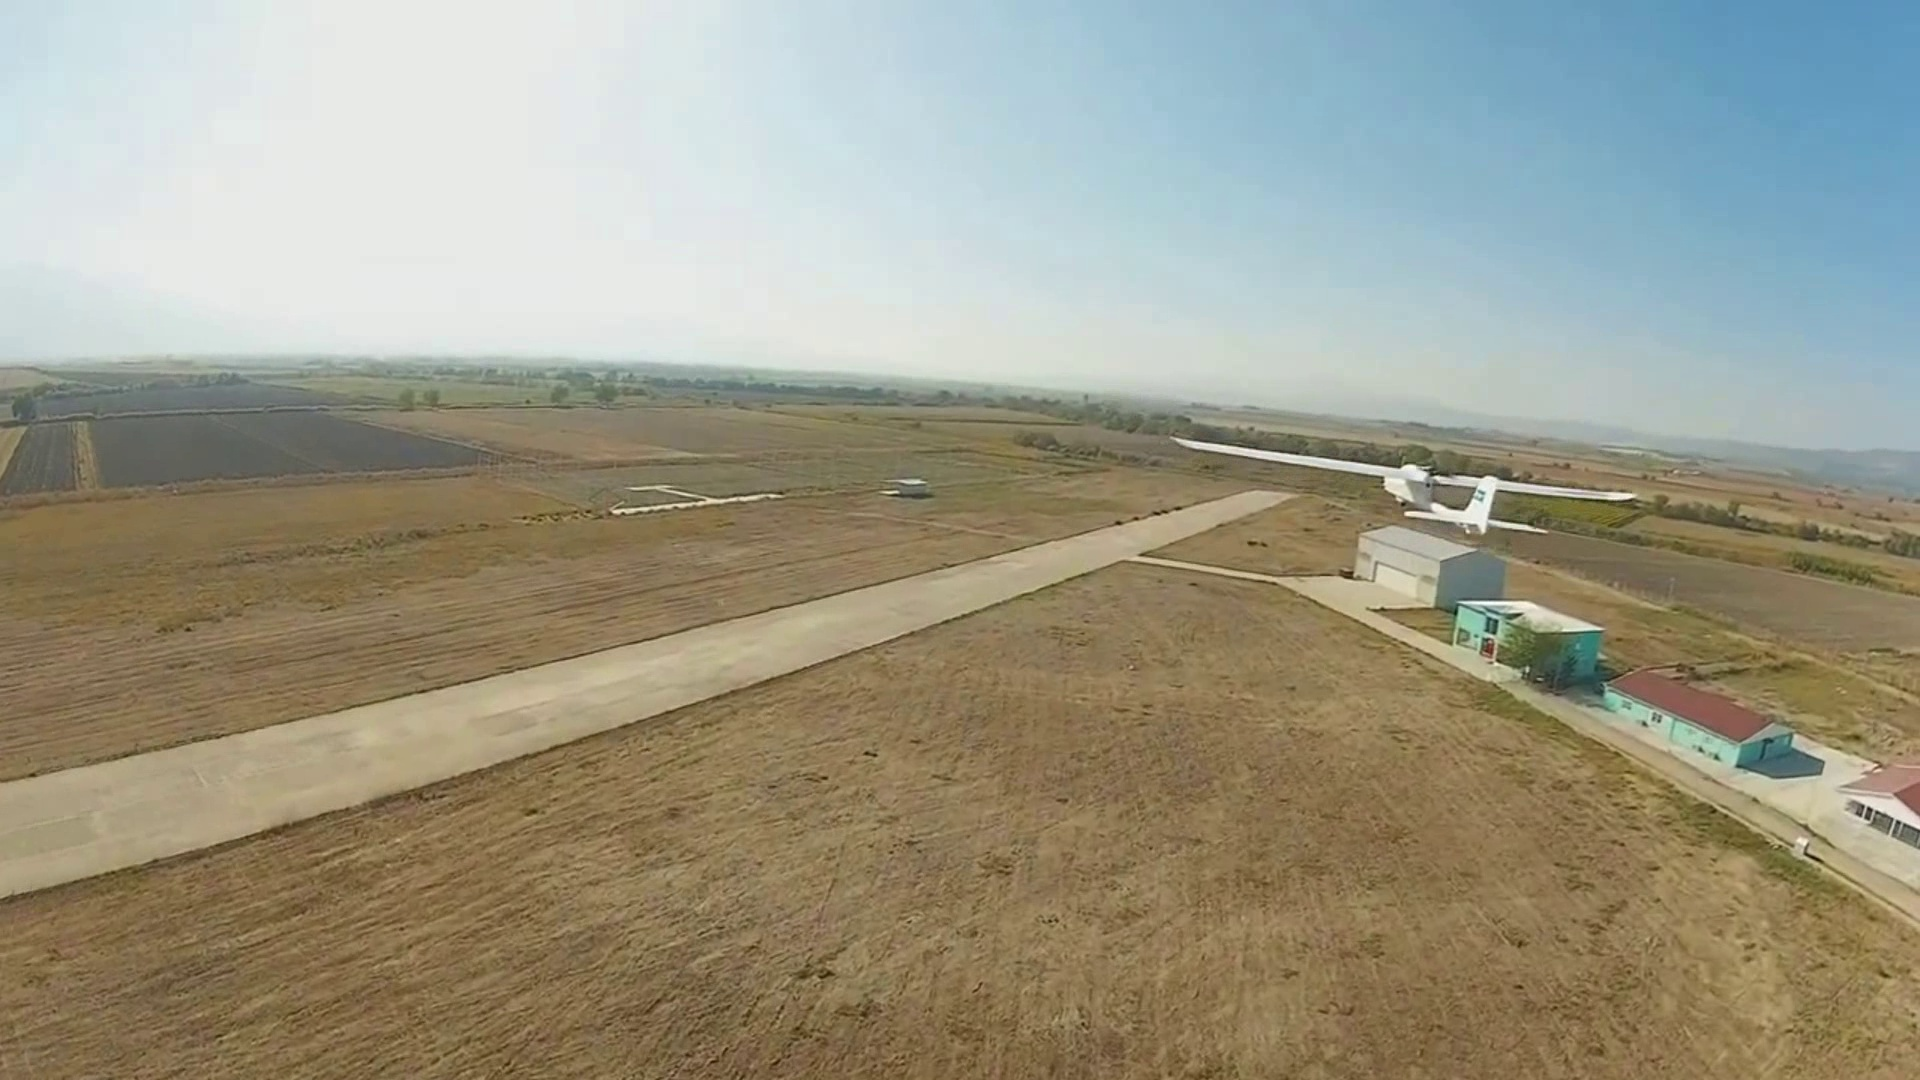airplane: (1168, 417, 1648, 541)
